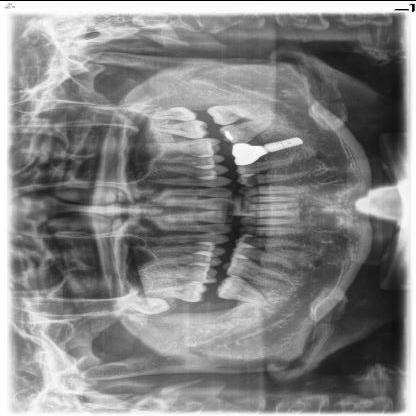ITI: (264, 130, 314, 156)
